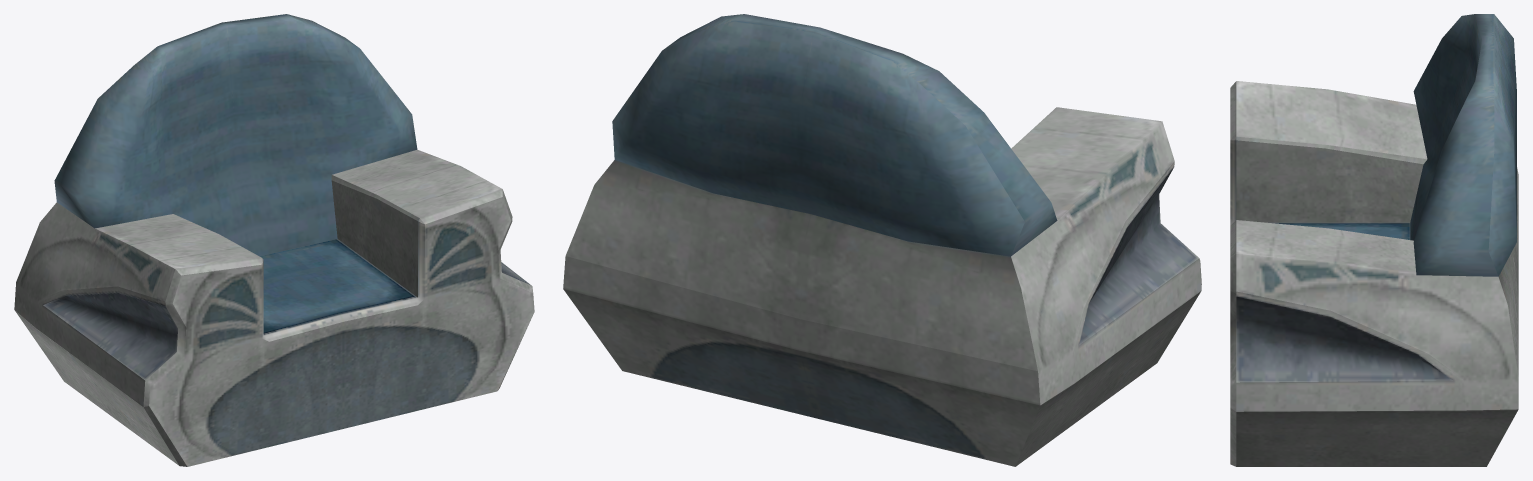
The model's file is frn_jedi_chair_light_s1_l0.fbx.
3 renders of one model, left to right at view 1: azimuth 30°, elevation 25°; view 2: azimuth 150°, elevation 25°; view 3: azimuth 270°, elevation 25°, orthographic. The views are drawn at different scales.
Parts seen in each view (by area): view 1: mesh_node; view 2: mesh_node; view 3: mesh_node.
Part boxes in pixels (x1,y1,x2,y2): mesh_node: (14, 14, 534, 466); mesh_node: (563, 14, 1201, 466); mesh_node: (1230, 14, 1518, 466).
Bounding box in the file's own units: 1.58 × 1.21 × 0.9241.
1 material, 1 textured.
